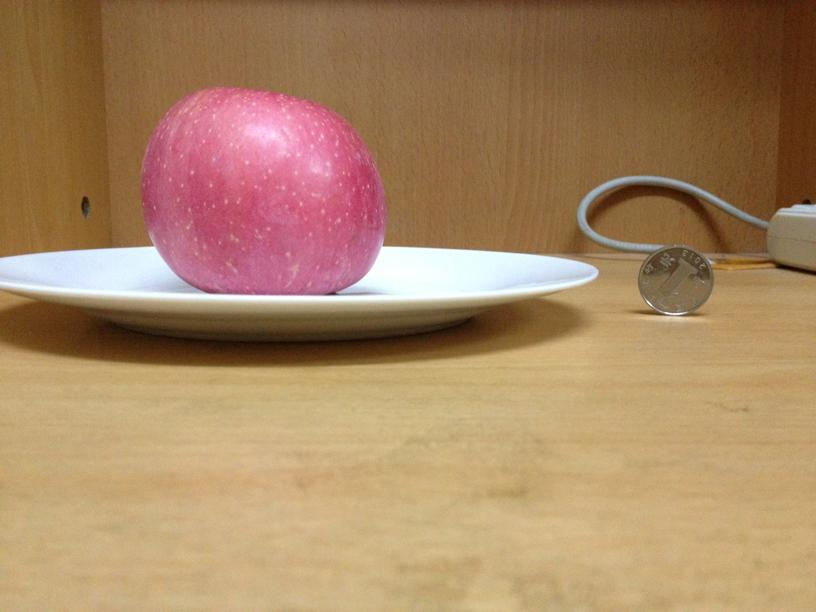apple: (135, 88, 385, 292)
coin: (637, 243, 713, 316)
